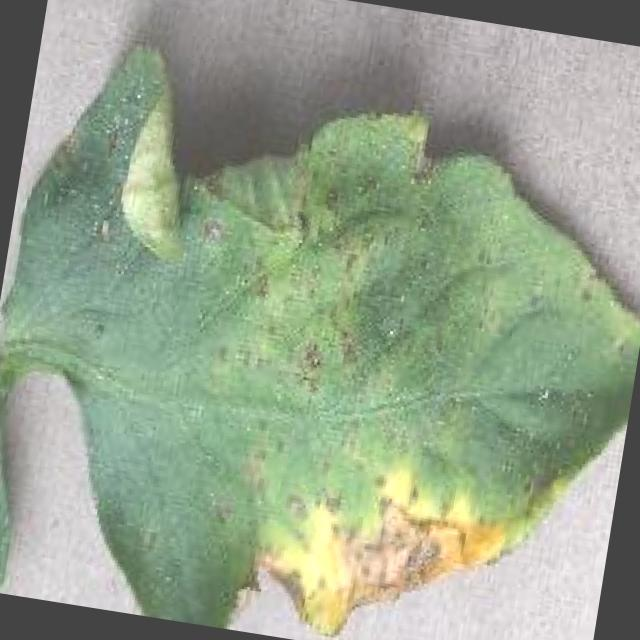bacterial spot: (0, 41, 640, 637)
